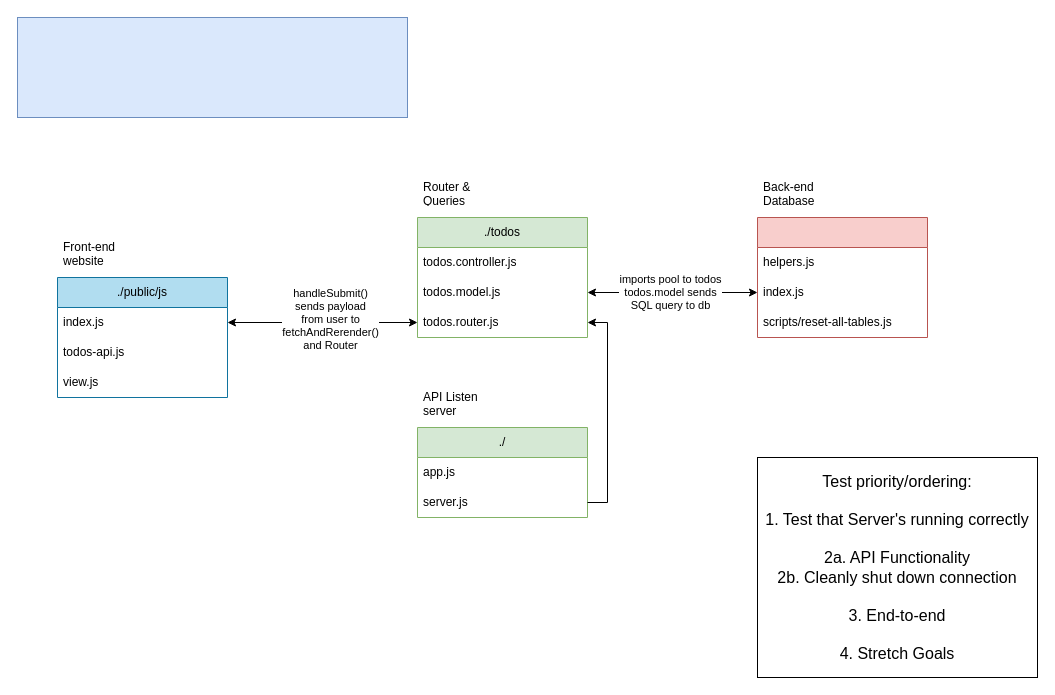
This 1055x695 diagram has some shape labels left out. Here are the shapes that lost their labels. From the top down, the box of each, then its label:
(16, 16, 408, 118): Todo App Map
(756, 216, 928, 338): ./db/
